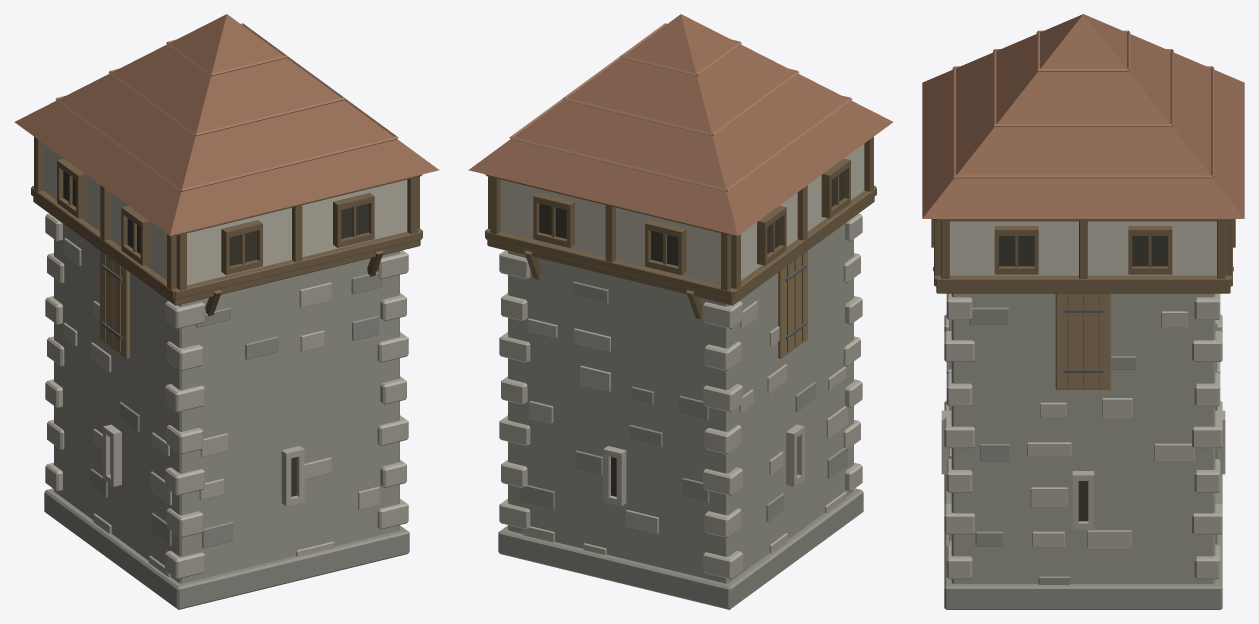
File: fort_tower_square.glb
3 renders of one model, left to right at view 1: azimuth 30°, elevation 25°; view 2: azimuth 150°, elevation 25°; view 3: azimuth 270°, elevation 25°, orthographic. The views are drawn at different scales.
Parts seen in each view (by area): view 1: fort_tower_square_fort_masonry, fort_tower_square_fort_roof, fort_tower_square_fort_stone_light, fort_tower_square_oak_dark, fort_tower_square_fort_stone_dark, fort_tower_square_fort_plaster, fort_tower_square_fort_roof_light, fort_tower_square_oak, fort_tower_square_black; view 2: fort_tower_square_fort_masonry, fort_tower_square_fort_roof, fort_tower_square_fort_stone_light, fort_tower_square_oak_dark, fort_tower_square_fort_stone_dark, fort_tower_square_fort_plaster, fort_tower_square_fort_roof_light, fort_tower_square_black, fort_tower_square_oak; view 3: fort_tower_square_fort_masonry, fort_tower_square_fort_roof, fort_tower_square_fort_stone_light, fort_tower_square_oak_dark, fort_tower_square_fort_stone_dark, fort_tower_square_fort_plaster, fort_tower_square_oak, fort_tower_square_fort_roof_light, fort_tower_square_black.
Boxes of the visible parts, bbox=[...] form: fort_tower_square_fort_masonry: bbox=[54, 224, 399, 583]; fort_tower_square_fort_roof: bbox=[14, 14, 439, 235]; fort_tower_square_fort_stone_light: bbox=[45, 213, 408, 579]; fort_tower_square_oak_dark: bbox=[31, 137, 422, 352]; fort_tower_square_fort_stone_dark: bbox=[44, 271, 409, 609]; fort_tower_square_fort_plaster: bbox=[43, 144, 407, 285]; fort_tower_square_fort_roof_light: bbox=[55, 23, 398, 191]; fort_tower_square_oak: bbox=[100, 251, 129, 358]; fort_tower_square_black: bbox=[63, 171, 368, 496]; fort_tower_square_fort_masonry: bbox=[508, 224, 853, 583]; fort_tower_square_fort_roof: bbox=[468, 14, 893, 235]; fort_tower_square_fort_stone_light: bbox=[499, 213, 862, 579]; fort_tower_square_oak_dark: bbox=[485, 137, 876, 352]; fort_tower_square_fort_stone_dark: bbox=[498, 281, 863, 609]; fort_tower_square_fort_plaster: bbox=[500, 144, 864, 285]; fort_tower_square_fort_roof_light: bbox=[509, 23, 852, 191]; fort_tower_square_black: bbox=[539, 171, 844, 496]; fort_tower_square_oak: bbox=[778, 251, 807, 358]; fort_tower_square_fort_masonry: bbox=[951, 293, 1215, 583]; fort_tower_square_fort_roof: bbox=[922, 14, 1244, 218]; fort_tower_square_fort_stone_light: bbox=[941, 293, 1225, 579]; fort_tower_square_oak_dark: bbox=[931, 219, 1235, 387]; fort_tower_square_fort_stone_dark: bbox=[944, 307, 1222, 609]; fort_tower_square_fort_plaster: bbox=[950, 221, 1216, 275]; fort_tower_square_oak: bbox=[1055, 293, 1111, 389]; fort_tower_square_fort_roof_light: bbox=[952, 30, 1214, 178]; fort_tower_square_black: bbox=[999, 236, 1167, 521].
Bounding box in the file's own units: 4.4 × 8.1 × 4.4.
